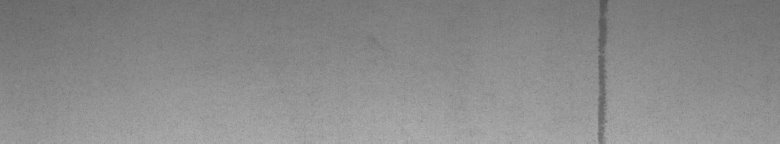hd: (593, 4, 612, 136)
